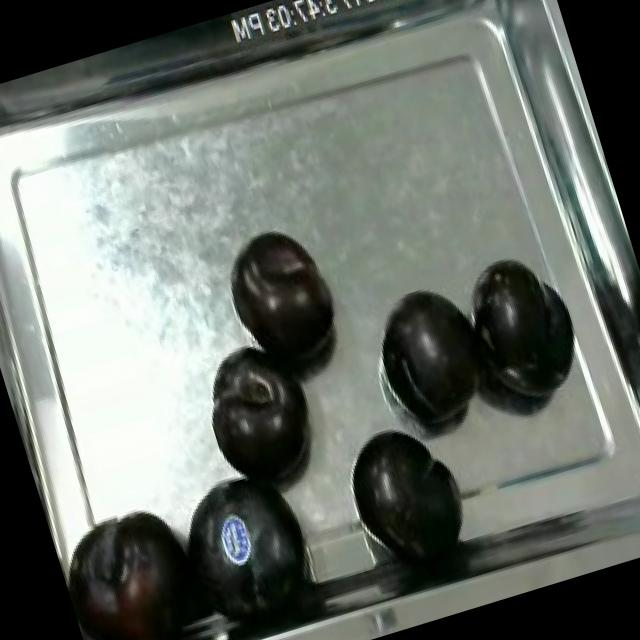Fruit: (158, 447, 332, 640), (48, 484, 230, 640), (186, 328, 330, 501), (454, 241, 596, 416), (361, 270, 508, 436), (330, 404, 474, 564), (218, 212, 354, 380)
